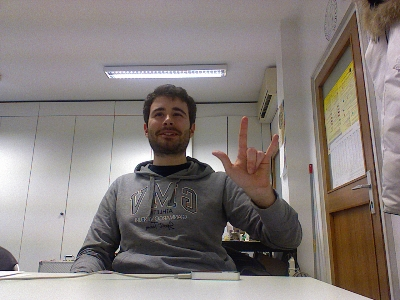我爱你: (209, 114, 280, 191)
